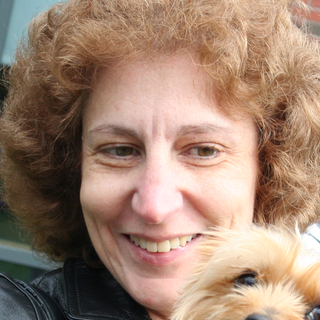eye: (88, 135, 150, 167), (173, 141, 235, 167)
